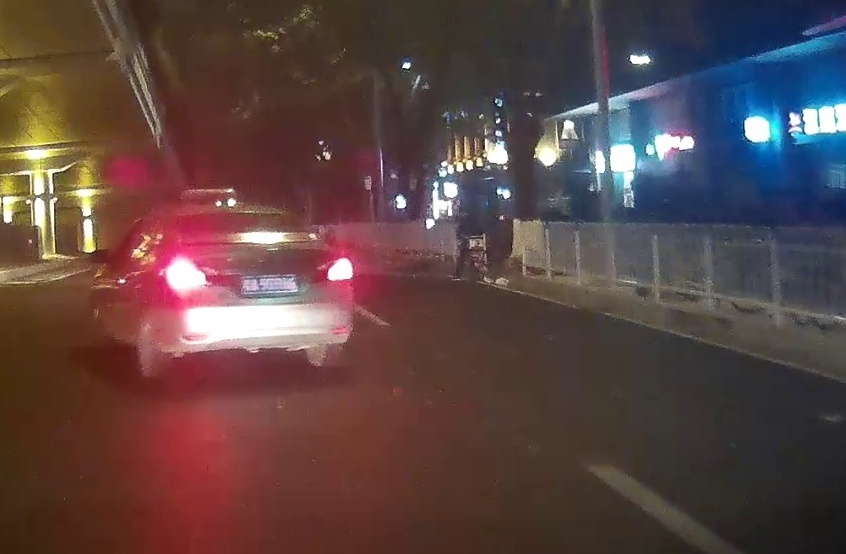L_light: (163, 256, 222, 298)
R_light: (311, 257, 354, 284)
T_light: (227, 212, 256, 218)
night-left: (163, 205, 354, 377)
